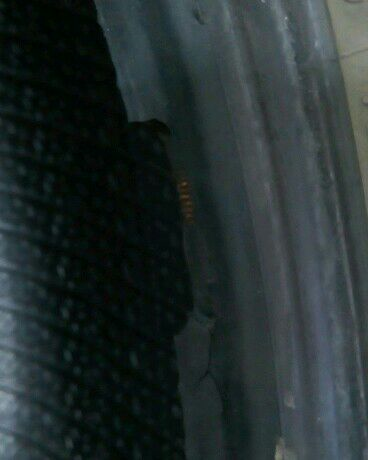bead_damage: (128, 116, 225, 339)
